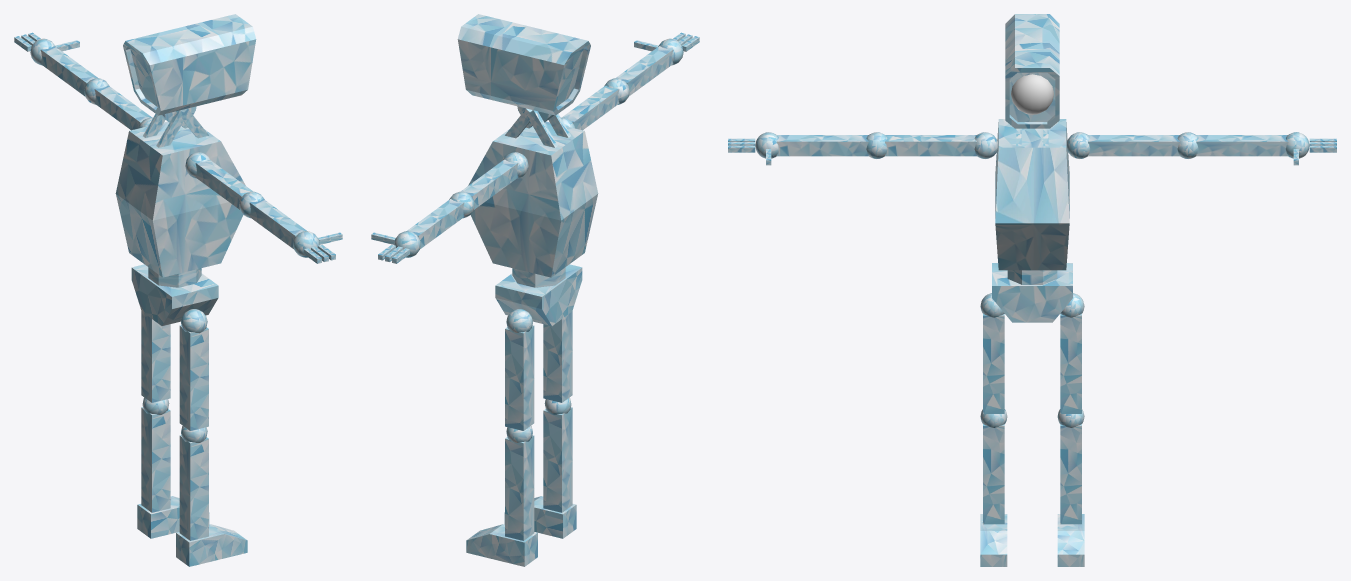
The model's file is RobotV1.fbx.
3 views of the same model, side by side, from view 1: azimuth 30°, elevation 25°; view 2: azimuth 150°, elevation 25°; view 3: azimuth 270°, elevation 25° (orthographic).
Parts seen in each view (by area): view 1: Robot, RobotHead, RobotRightLeg, RobotLeftLeg, RobotRightArm, RobotLeftArm; view 2: Robot, RobotHead, RobotLeftLeg, RobotRightLeg, RobotLeftArm, RobotRightArm; view 3: Robot, RobotLeftLeg, RobotRightLeg, RobotHead, RobotLeftArm, RobotRightArm.
Boxes of the visible parts, left/top/right/bottom form: Robot: left=115, top=108, right=245, bottom=325; RobotHead: left=123, top=14, right=256, bottom=123; RobotRightLeg: left=176, top=309, right=247, bottom=566; RobotLeftLeg: left=137, top=311, right=209, bottom=538; RobotRightArm: left=185, top=152, right=342, bottom=263; RobotLeftArm: left=14, top=32, right=152, bottom=130; Robot: left=468, top=108, right=598, bottom=325; RobotHead: left=457, top=14, right=590, bottom=123; RobotLeftLeg: left=466, top=309, right=537, bottom=566; RobotRightLeg: left=504, top=311, right=576, bottom=538; RobotLeftArm: left=371, top=152, right=528, bottom=263; RobotRightArm: left=561, top=32, right=699, bottom=130; Robot: left=992, top=119, right=1072, bottom=322; RobotLeftLeg: left=1057, top=293, right=1084, bottom=566; RobotRightLeg: left=980, top=293, right=1007, bottom=566; RobotHead: left=1005, top=14, right=1059, bottom=128; RobotLeftArm: left=1067, top=132, right=1336, bottom=165; RobotRightArm: left=728, top=132, right=997, bottom=165.
Bounding box in the file's own units: 474 × 2080 × 2250.
